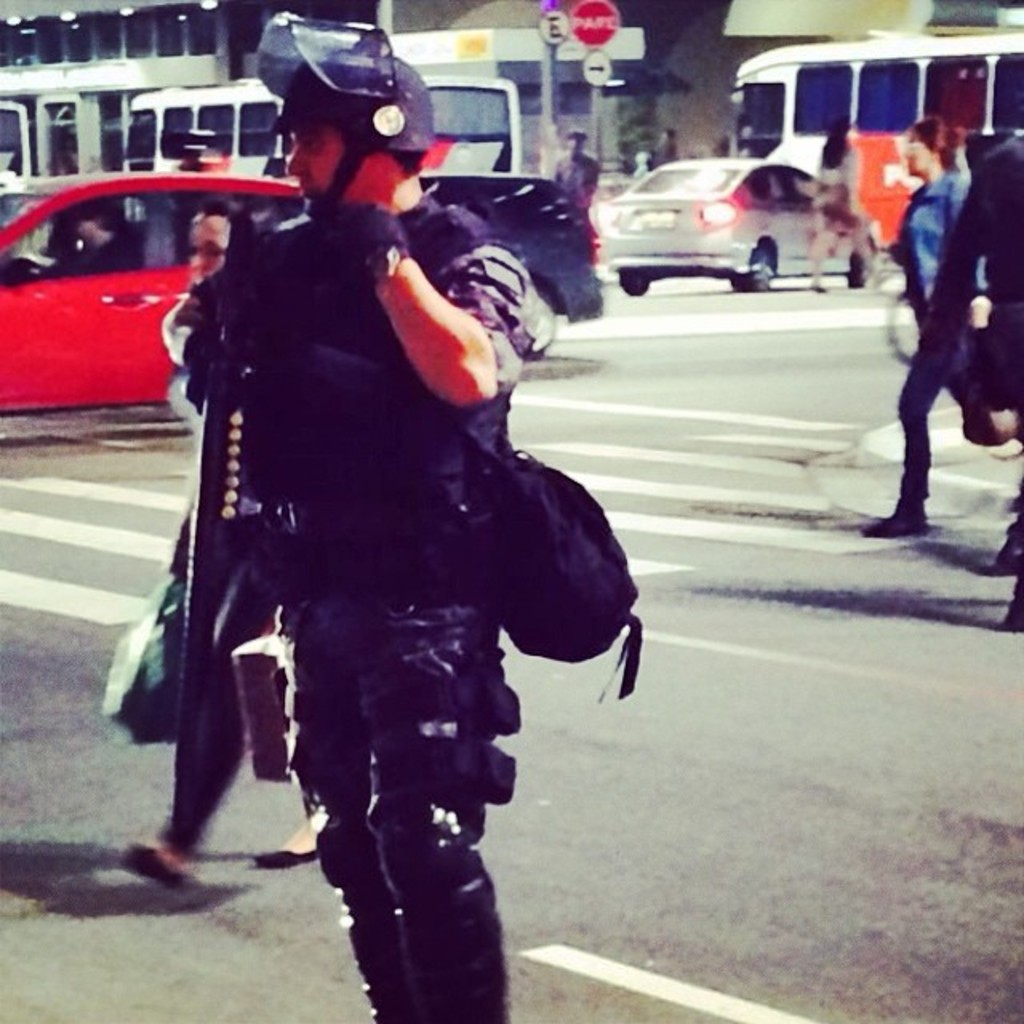Footwear: (117, 840, 197, 894), (250, 845, 318, 875), (854, 507, 930, 531), (990, 538, 1022, 568), (810, 282, 829, 293)
